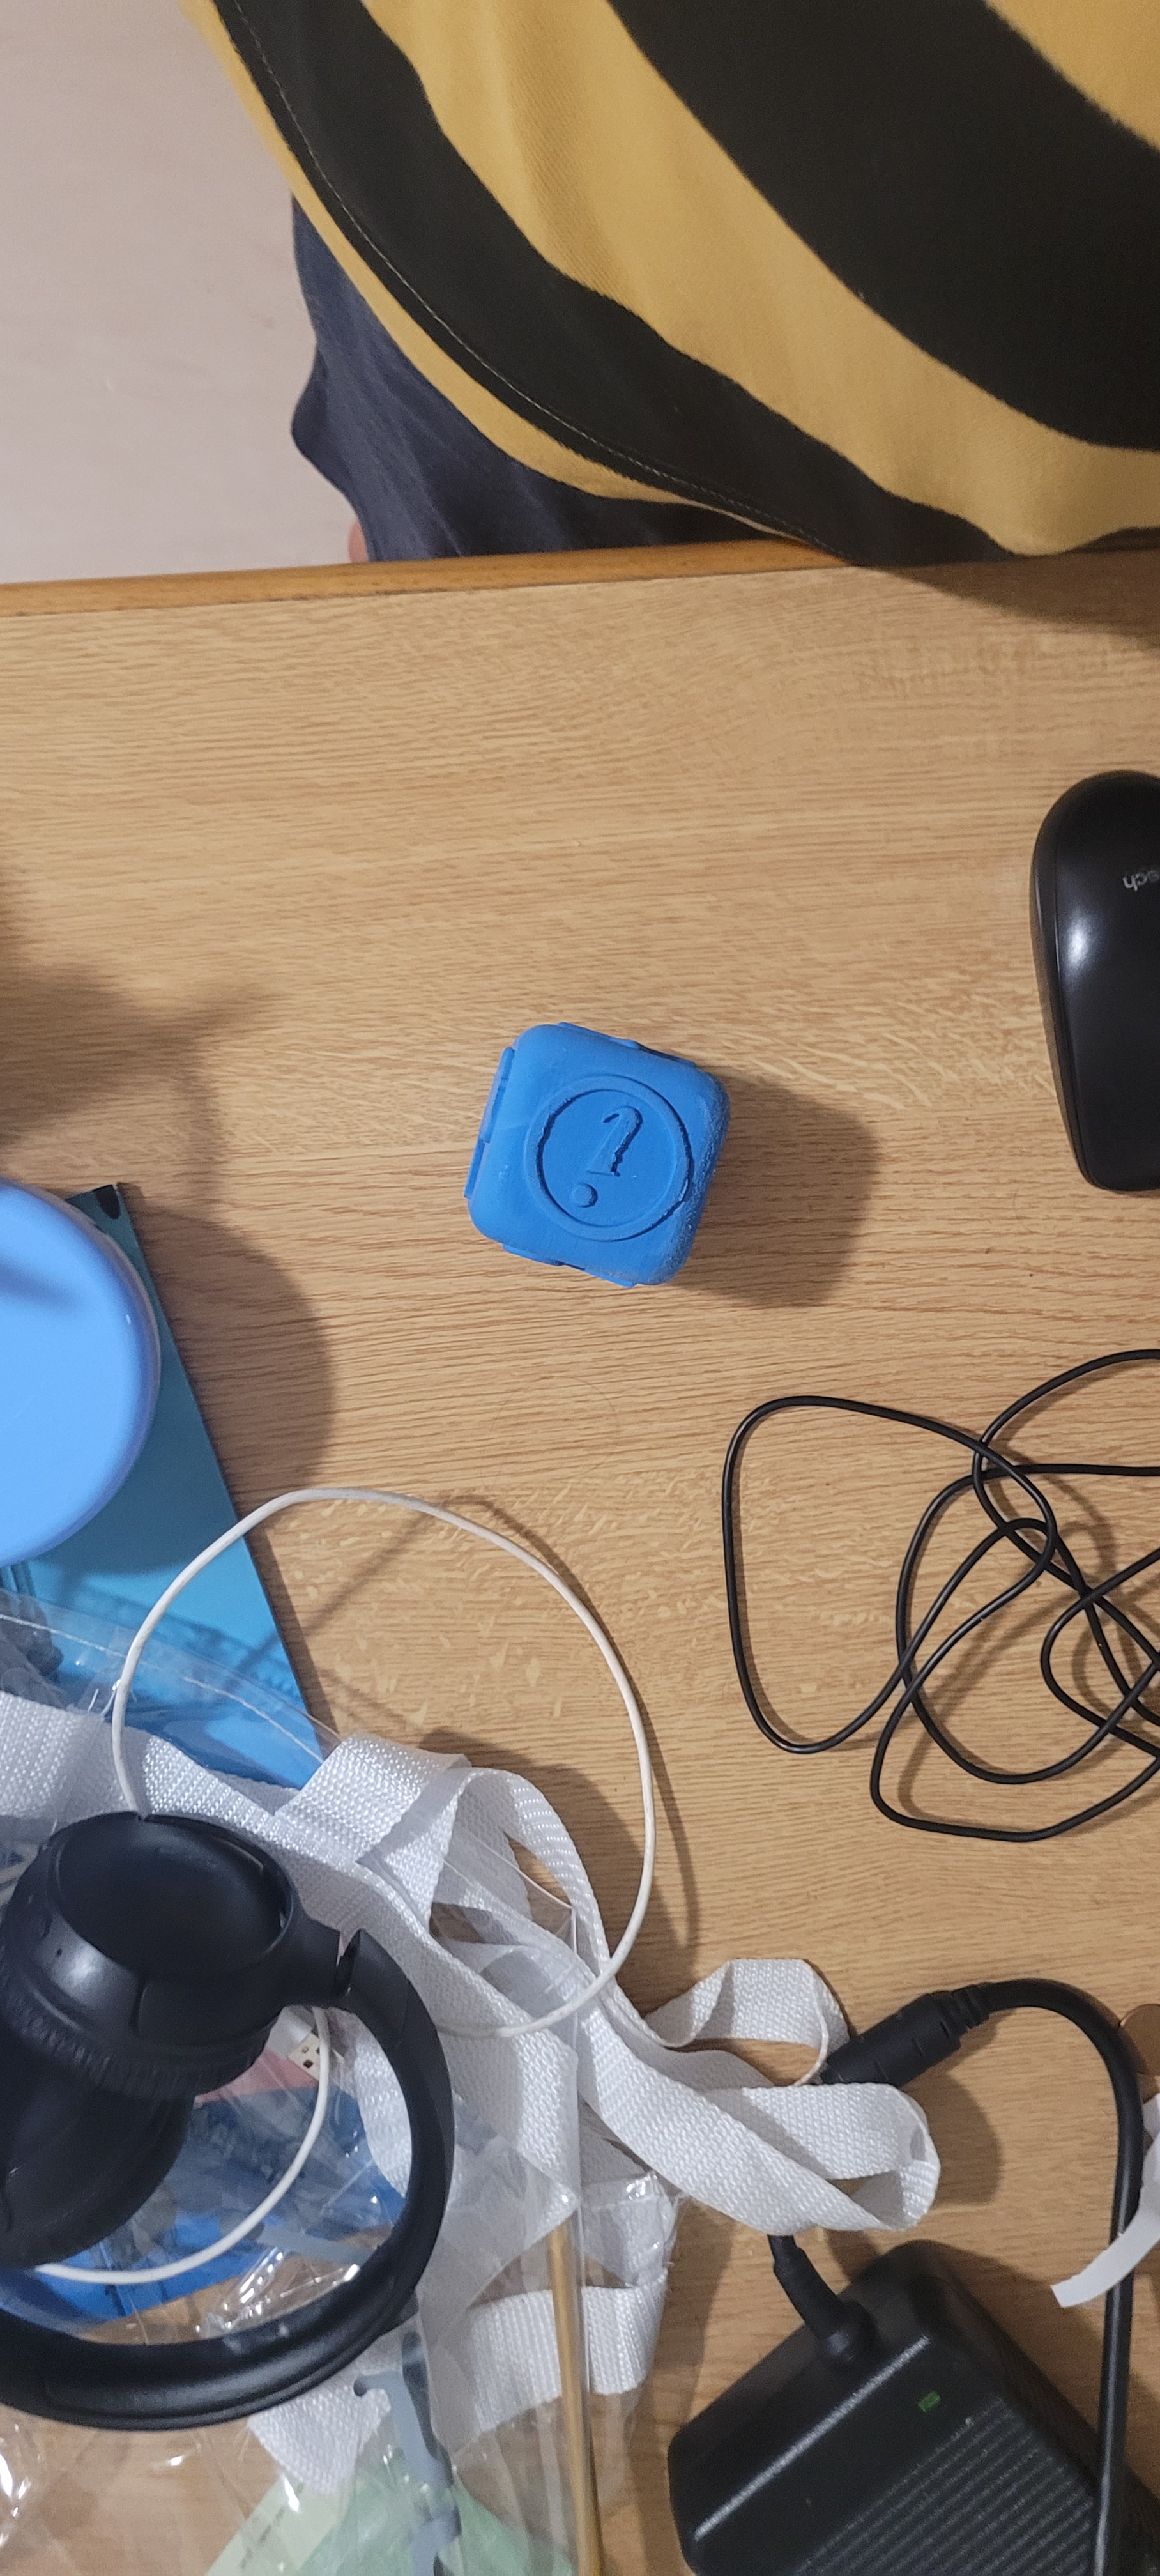Info: (519, 1046, 708, 1268)
